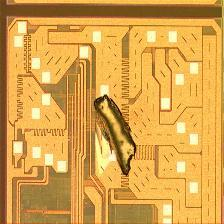PARTICLE: (94, 94, 140, 178)
